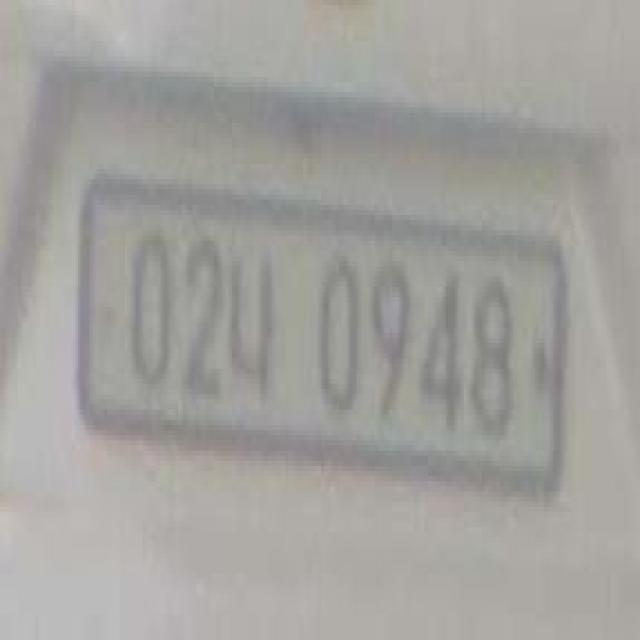illegal_plate: (78, 171, 569, 521)
